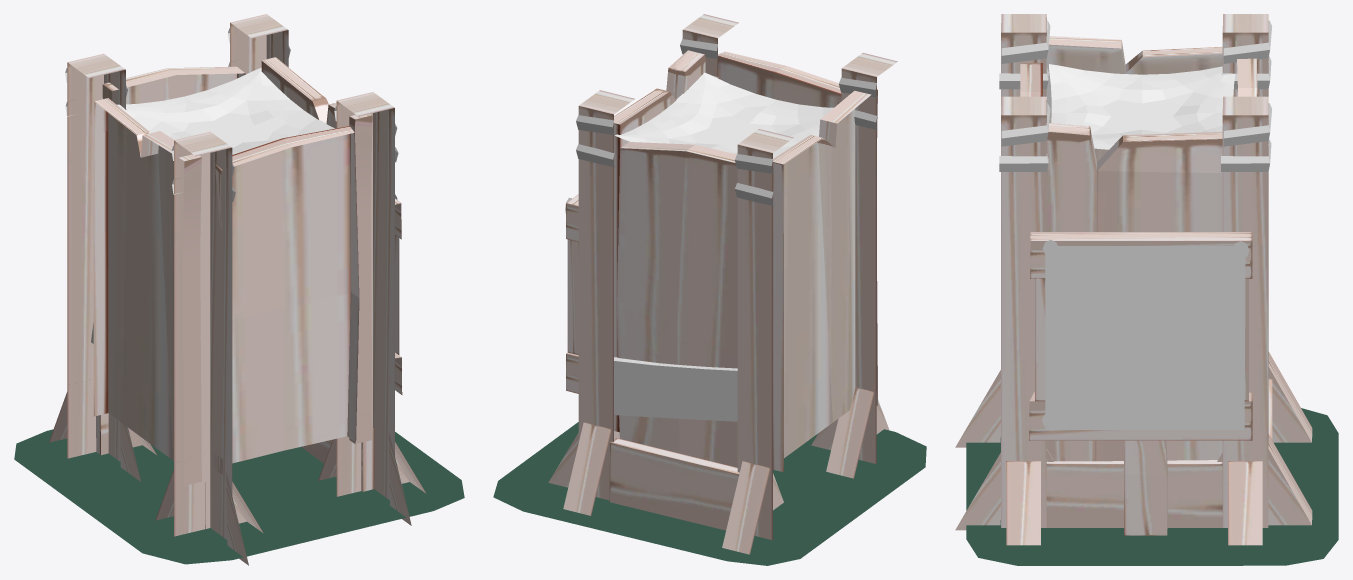
The model's file is Construction1x1 (old style).fbx.
The picture shows the model from 3 angles, left to right: view 1: azimuth 30°, elevation 25°; view 2: azimuth 150°, elevation 25°; view 3: azimuth 270°, elevation 25°; orthographic projection. The views are drawn at different scales.
Visible parts, largest first — view 1: Plank06, Plank012, ShadowSquare, Pillar (3), Pillar (4), Pillar (1), Cover2x2, Plank03, Plank04, Pillar (2), Sign, Plank07 (1) (+1 smaller); view 2: Plank04, Plank012, ShadowSquare, Pillar (2), Pillar (4), Pillar (3), Cover2x2, Plank07, Warning1, Plank06, Plank03, Sign (+1 smaller); view 3: Sign, Plank03, Pillar (1), ShadowSquare, Pillar (2), Cover2x2, Plank07 (1), Pillar (4), Plank012, Pillar (3), Plank04, Plank06.
Boxes of the visible parts, box(x1,y1,x2,y2) form: Plank06: box(213, 126, 359, 474); Plank012: box(93, 98, 201, 485); ShadowSquare: box(14, 429, 464, 564); Pillar (3): box(155, 131, 263, 565); Pillar (4): box(49, 53, 157, 481); Pillar (1): box(318, 92, 426, 525); Cover2x2: box(117, 67, 334, 154); Plank03: box(261, 57, 372, 444); Plank04: box(102, 66, 245, 104); Pillar (2): box(228, 14, 290, 74); Sign: box(395, 194, 402, 394); Plank07 (1): box(301, 427, 374, 491); Plank04: box(617, 142, 737, 467); Plank012: box(773, 89, 877, 472); ShadowSquare: box(493, 422, 926, 565); Pillar (2): box(548, 90, 634, 515); Pillar (4): box(722, 129, 793, 554); Pillar (3): box(811, 53, 897, 478); Cover2x2: box(615, 72, 833, 158); Plank07: box(609, 438, 739, 530); Warning1: box(614, 357, 737, 421); Plank06: box(718, 51, 841, 107); Plank03: box(614, 50, 705, 432); Sign: box(565, 194, 578, 393); Sign: box(1029, 232, 1252, 535); Plank03: box(1046, 123, 1222, 461); Pillar (1): box(955, 96, 1053, 545); ShadowSquare: box(966, 408, 1338, 565); Pillar (2): box(1217, 96, 1312, 545); Cover2x2: box(1049, 64, 1235, 149); Plank07 (1): box(1046, 460, 1222, 527); Pillar (4): box(1221, 14, 1312, 442); Plank012: box(1046, 36, 1222, 161); Pillar (3): box(955, 14, 1050, 447); Plank04: box(1237, 58, 1257, 96); Plank06: box(1020, 63, 1042, 96).
Bounding box in the file's own units: 1.13 × 1.38 × 1.15.
